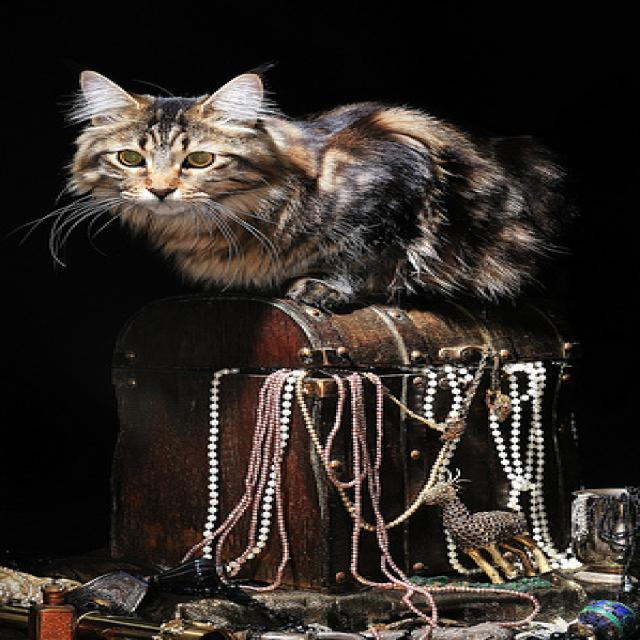Maine Coon: (42, 59, 571, 313)
